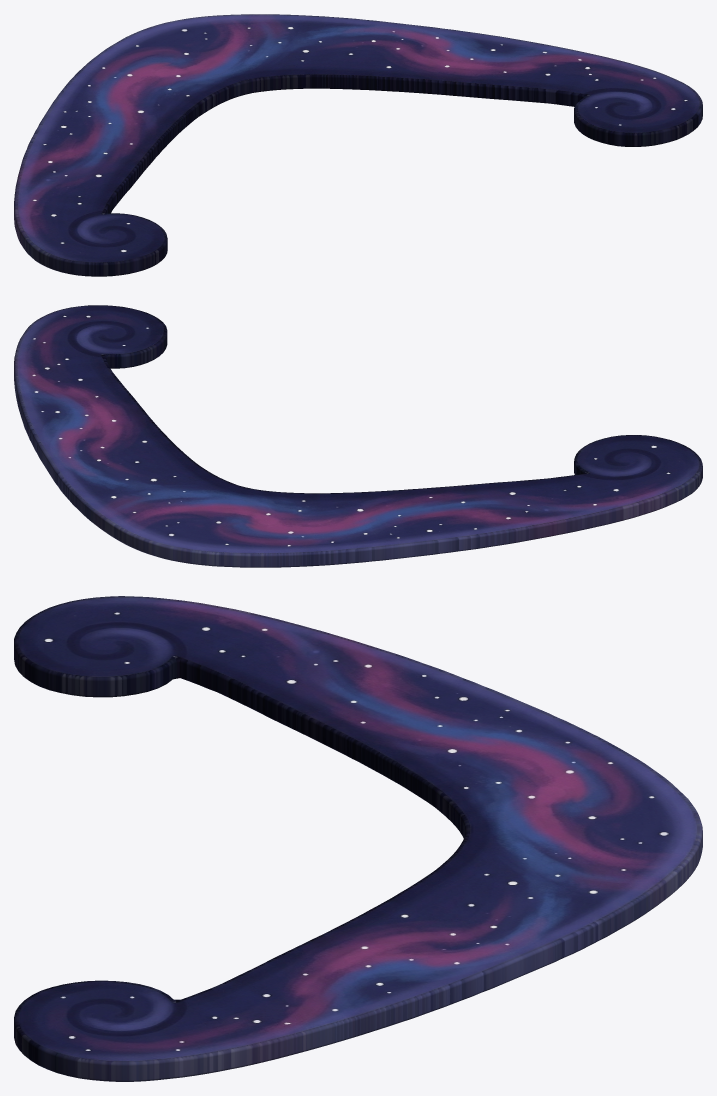
The model's file is Boomerang_45.fbx.
3 renders of one model, top to bottom at view 1: azimuth 30°, elevation 25°; view 2: azimuth 150°, elevation 25°; view 3: azimuth 270°, elevation 25°, orthographic. The views are drawn at different scales.
Parts seen in each view (by area): view 1: Boomerang_45; view 2: Boomerang_45; view 3: Boomerang_45.
Boxes of the visible parts, x1,y1,x2,y2 form: Boomerang_45: (14, 14, 702, 276); Boomerang_45: (14, 305, 702, 567); Boomerang_45: (14, 596, 702, 1081).
Bounding box in the file's own units: 225 × 4.4 × 140.
1 material, 1 textured.
